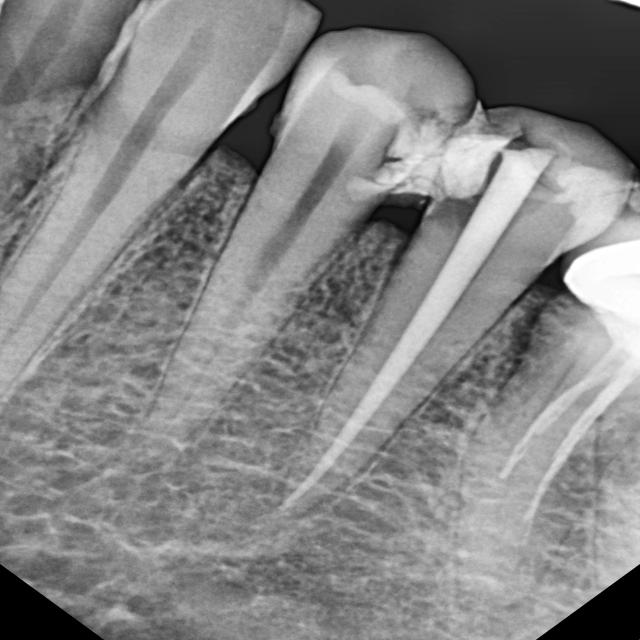RCT: (423, 417, 434, 419)
